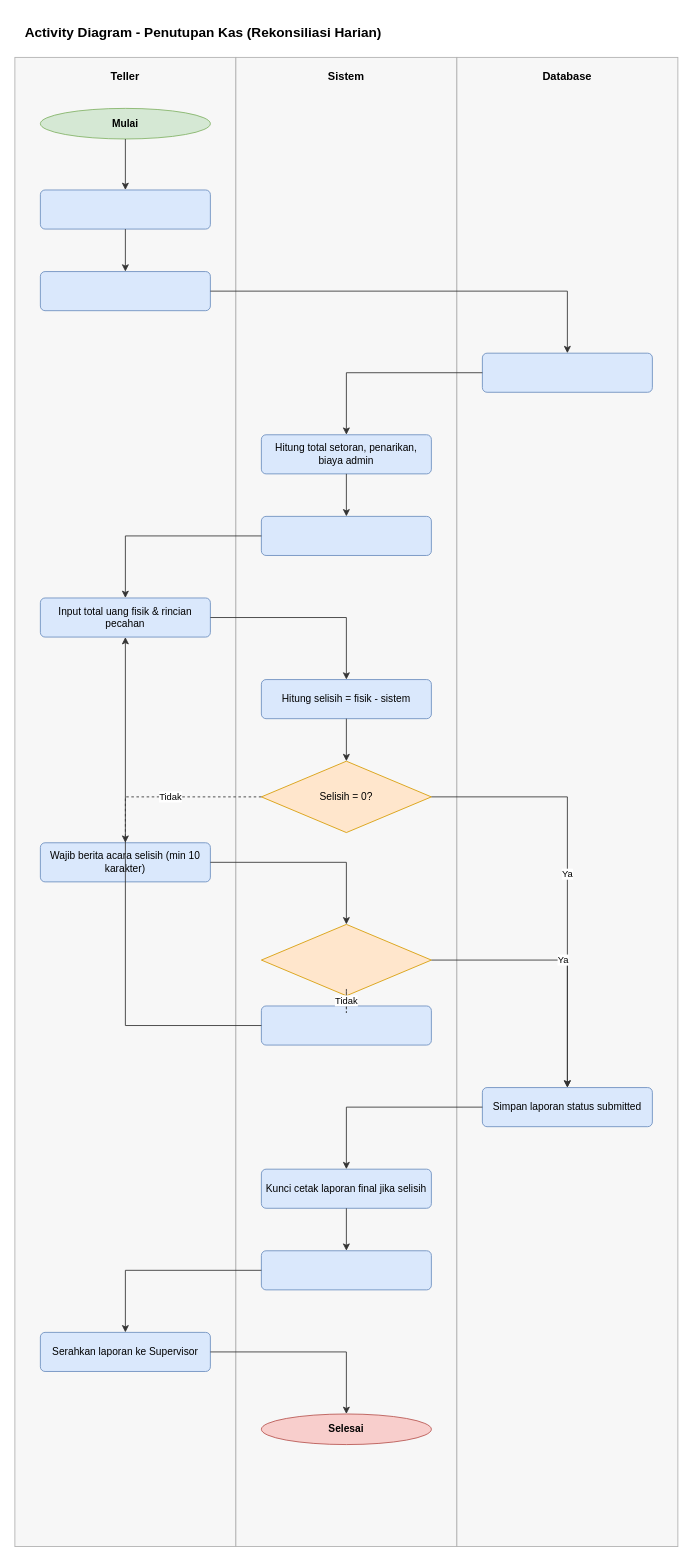
The diagram is 693 pixels wide and 1561 high, and some of its shapes have lost their labels. Here are the shapes that lost their labels. From the top down, the box of each, then its label:
(40, 189, 210, 229): Buka modul penutupan kas
(40, 271, 210, 311): Pilih tanggal kerja
(482, 352, 652, 392): Ambil transaksi sukses teller pada tanggal
(261, 516, 431, 555): Hitung saldo akhir = saldo awal + setoran - penarikan
(261, 924, 431, 996): Berita acara valid?
(261, 1005, 431, 1045): Tolak penyimpanan
(261, 1250, 431, 1290): Cetak draf Laporan Harian
